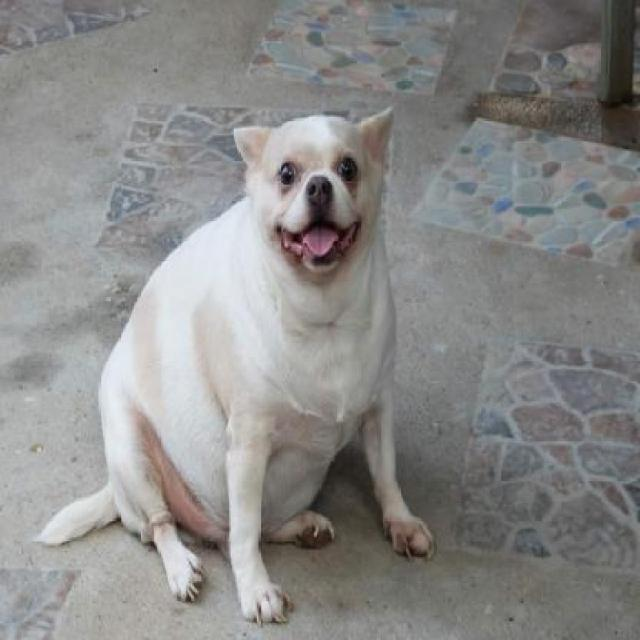Dog: (34, 108, 437, 630)
